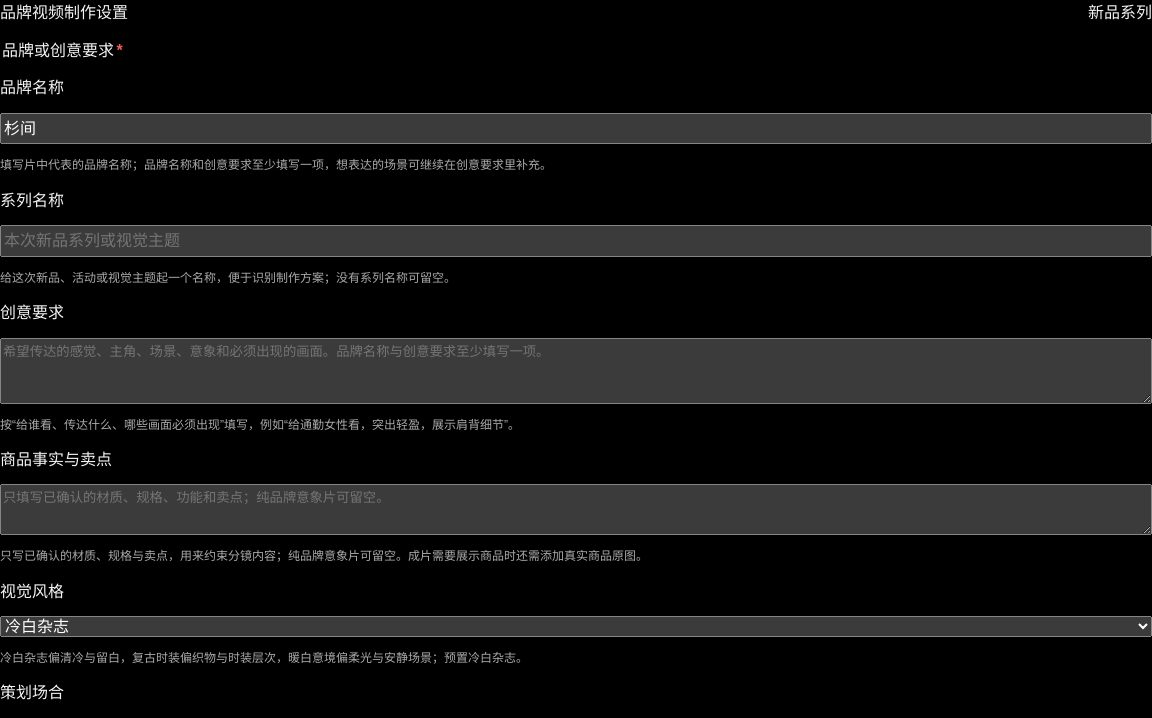
Scenario: brand video settings › shows a saved concept as stale after editing instead of pretending the frozen plan changed
The image size is (1152, 718).
Expected: the text "制作设置已改变" is not shown
Select "复古时装" in the dropdown named "品牌视频视觉风格" at point(576, 627), box [0,616,1151,637]
(page scrolled)
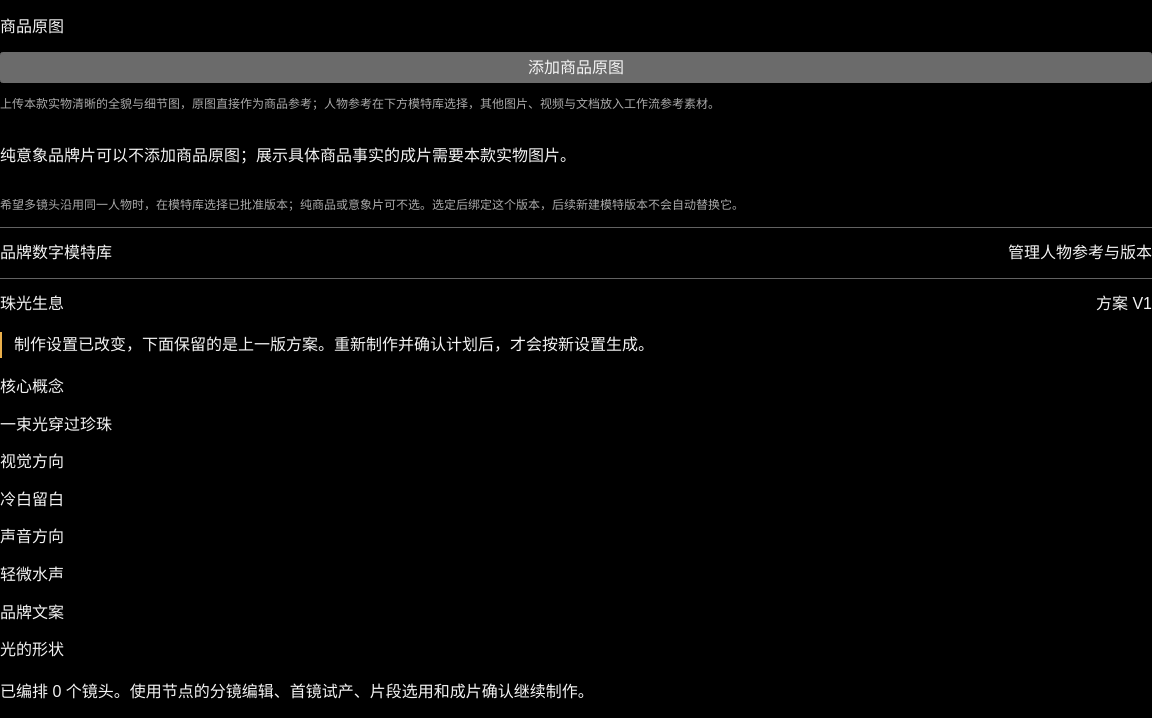
Expected: the text "冷白留白" is shown, [0,491,64,508]
Now the text "制作设置已改变，下面保留的是上一版方案。重新制作并确认计划后，才会按新设置生成。" is shown, box [0,332,1151,358]
